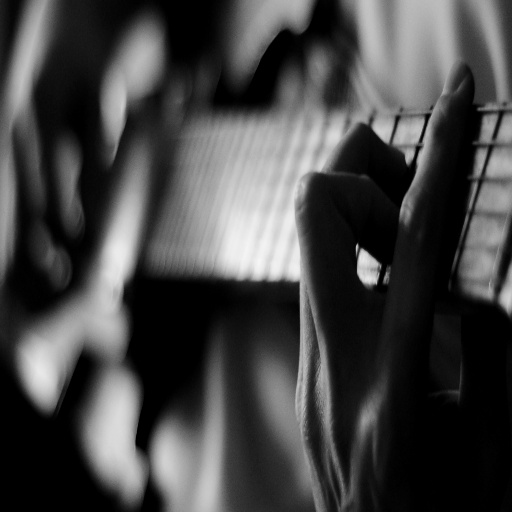hand: (292, 57, 511, 511), (0, 0, 166, 311)
